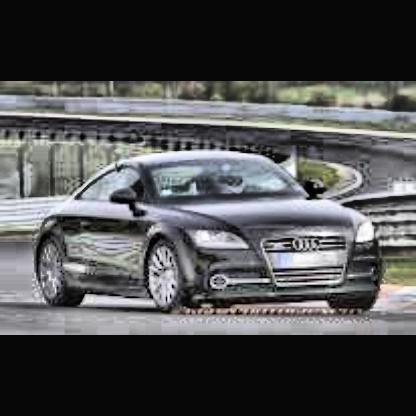Audi TTS Coupe 2012: (38, 148, 385, 317)
